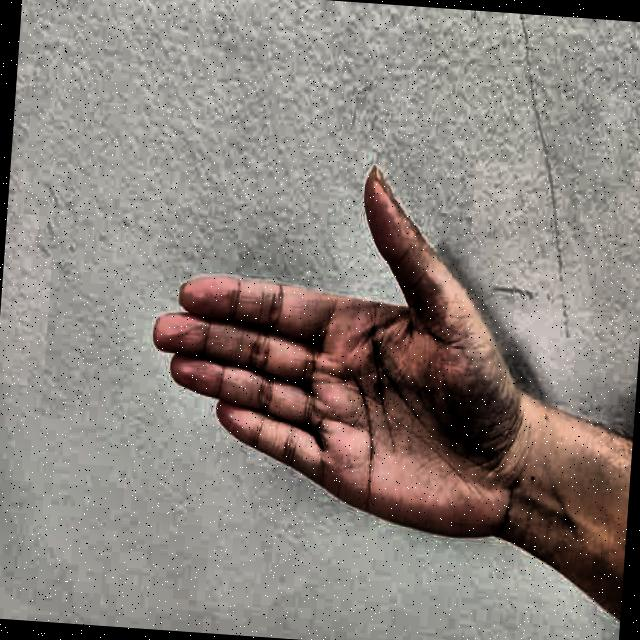Aa: (111, 128, 541, 582)
